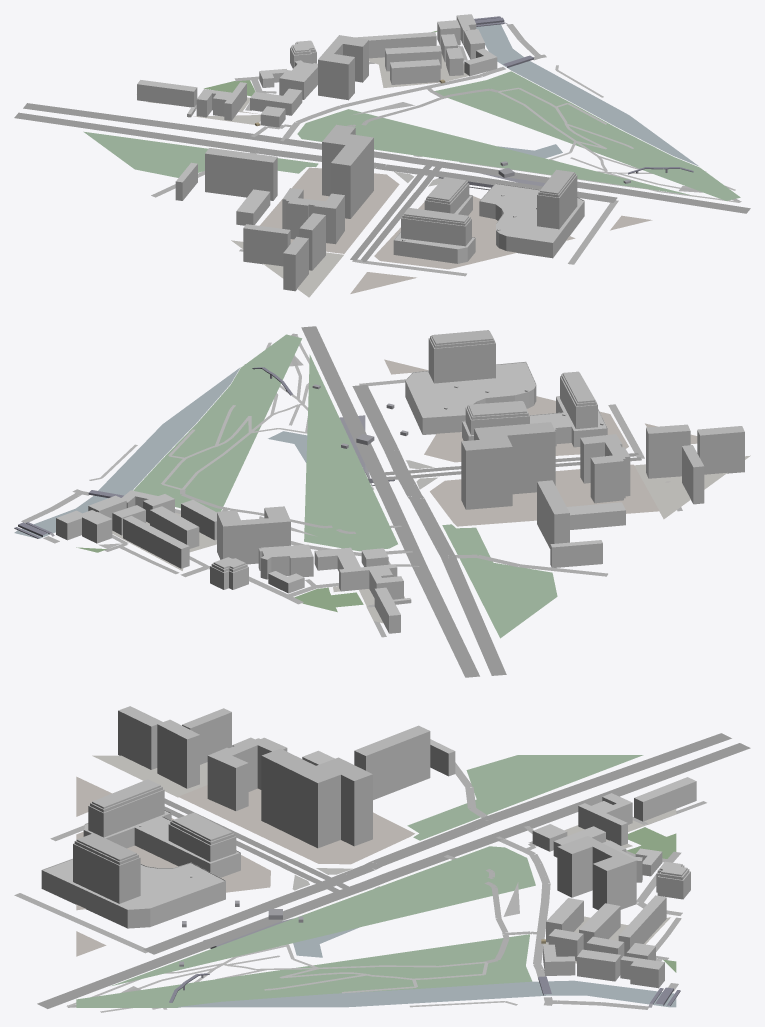
The picture shows the model from 3 angles, top to bottom: view 1: azimuth 30°, elevation 25°; view 2: azimuth 150°, elevation 25°; view 3: azimuth 270°, elevation 25°; orthographic projection. The views are drawn at different scales.
Bounding box in the file's own units: 551 × 76.5 × 614.
